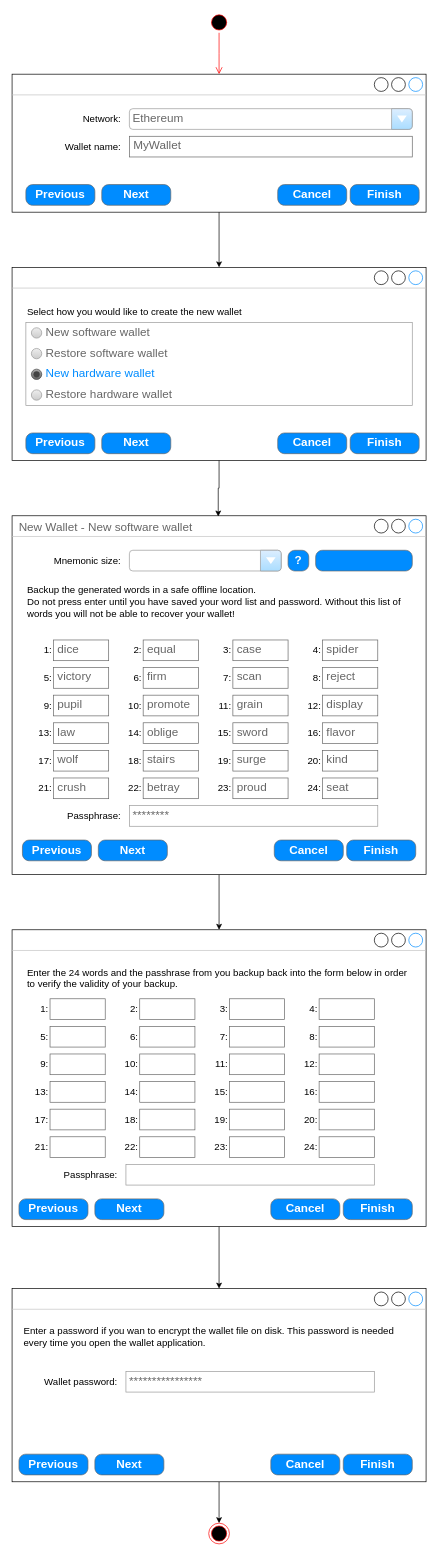
This 438x1556 diagram has some shape labels left out. The shapes that lost their labels are listed below. From the top down, each one's box as (x1, y1, x2, y2) in pixels, then its label:
(11, 73, 426, 212): New Wallet - Select wallet type
(11, 267, 426, 461): New Wallet - Restore or create wallet
(129, 550, 281, 571): 24 words + passphrase
(315, 550, 412, 571): New mnemonic
(11, 929, 426, 1226): New Wallet - Verify new software wallet
(11, 1288, 426, 1482): New Wallet - Encrypt wallet file
